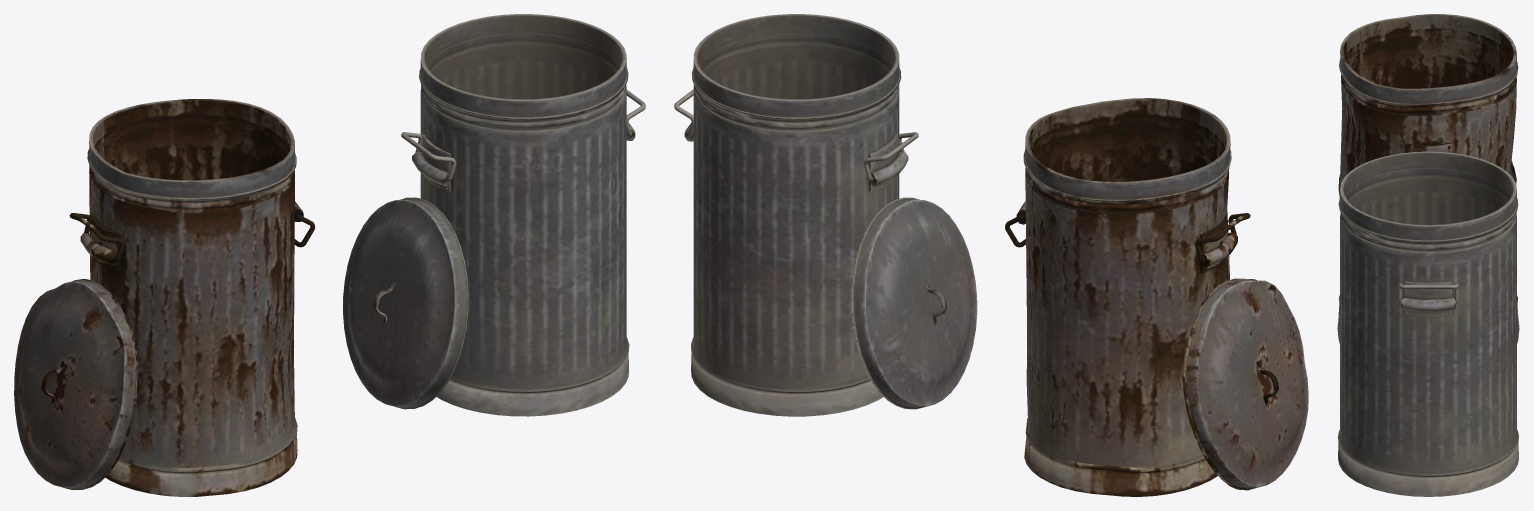
File: metal_trash_can.glb
3 views of the same model, side by side, from view 1: azimuth 30°, elevation 25°; view 2: azimuth 150°, elevation 25°; view 3: azimuth 270°, elevation 25° (orthographic). The views are drawn at different scales.
Visible parts, largest first — view 1: metal_trash_can, metal_trash_can_rust, metal_trash_can_lid, metal_trash_can_rust_lid; view 2: metal_trash_can, metal_trash_can_rust, metal_trash_can_lid, metal_trash_can_rust_lid; view 3: metal_trash_can, metal_trash_can_rust, metal_trash_can_handle_right.
Boxes of the visible parts, x1=… form: metal_trash_can: x1=412, y1=14, x2=635, y2=416; metal_trash_can_rust: x1=80, y1=99, x2=303, y2=496; metal_trash_can_lid: x1=343, y1=197, x2=468, y2=409; metal_trash_can_rust_lid: x1=14, y1=279, x2=137, y2=489; metal_trash_can: x1=684, y1=14, x2=908, y2=416; metal_trash_can_rust: x1=1016, y1=98, x2=1237, y2=496; metal_trash_can_lid: x1=851, y1=197, x2=977, y2=409; metal_trash_can_rust_lid: x1=1183, y1=278, x2=1308, y2=490; metal_trash_can: x1=1337, y1=151, x2=1518, y2=496; metal_trash_can_rust: x1=1338, y1=14, x2=1518, y2=316; metal_trash_can_handle_right: x1=1398, y1=283, x2=1458, y2=303.
Bounding box in the file's own units: 1.78 × 0.9062 × 0.5543.
Materials: 2 (2 with a texture image).
